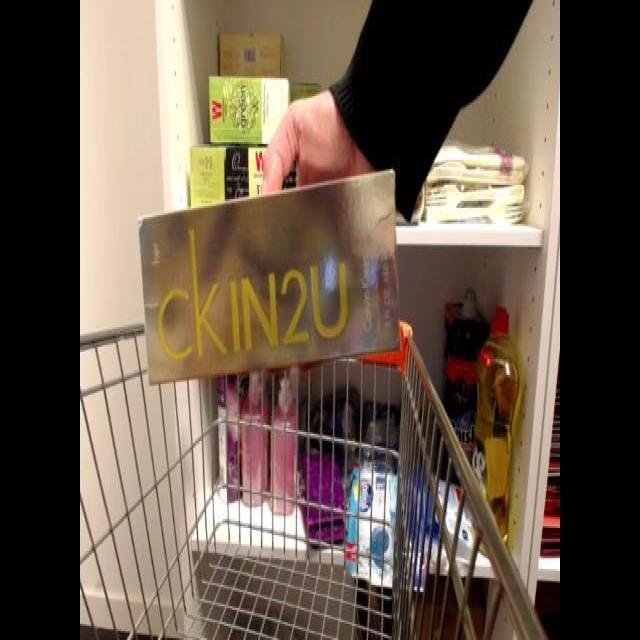Calvin Klein: (136, 156, 402, 388)
